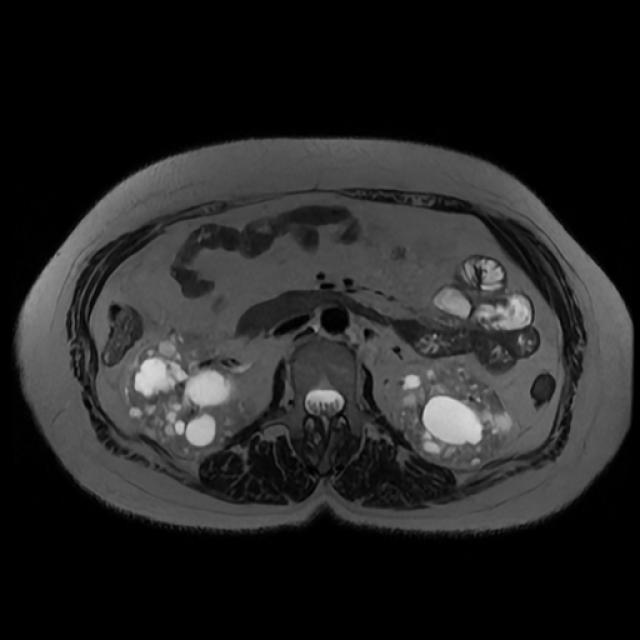sag: (129, 333, 252, 457)
sol: (402, 363, 514, 471)
